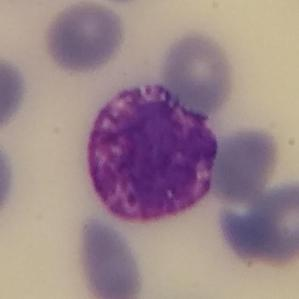Basophil: (75, 73, 227, 232)
RBC: (158, 29, 238, 117), (71, 214, 148, 299), (42, 0, 127, 75), (209, 124, 282, 202), (220, 190, 279, 264), (247, 179, 299, 262), (0, 54, 31, 133), (0, 133, 18, 226), (84, 0, 150, 6)
